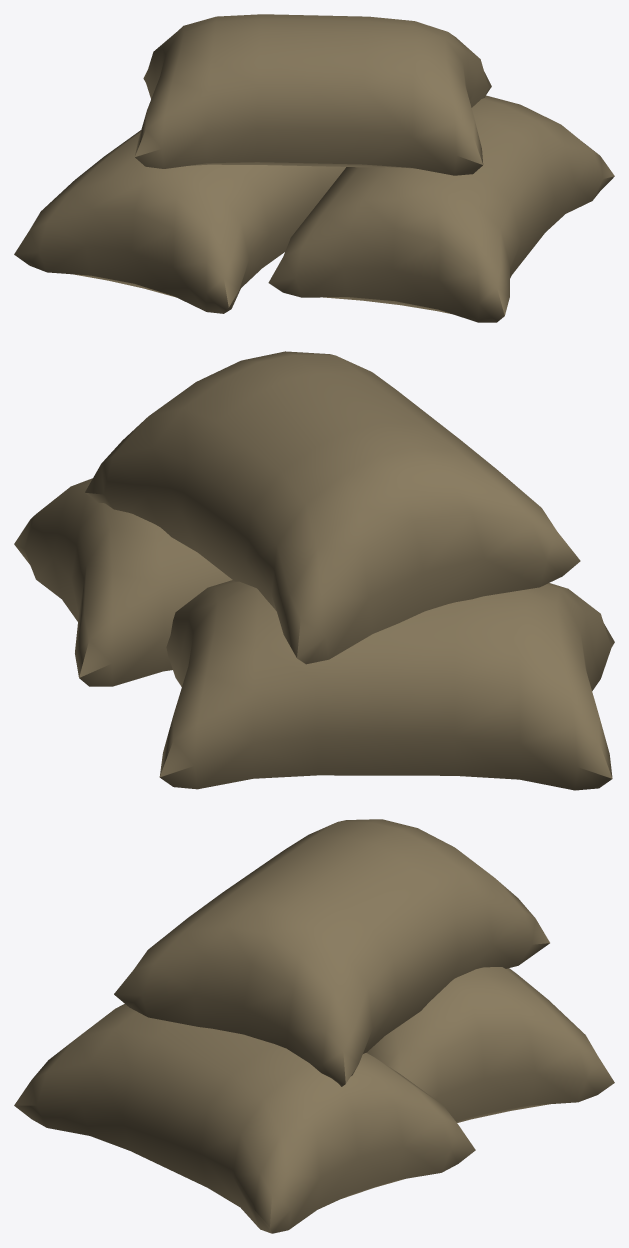
File: prop_karung.fbx
The picture shows the model from 3 angles, top to bottom: view 1: azimuth 30°, elevation 25°; view 2: azimuth 150°, elevation 25°; view 3: azimuth 270°, elevation 25°; orthographic projection. The views are drawn at different scales.
Parts seen in each view (by area): view 1: prop_karung; view 2: prop_karung; view 3: prop_karung.
Boxes of the visible parts, x1,y1,x2,y2 form: prop_karung: [14, 14, 614, 322]; prop_karung: [14, 351, 614, 790]; prop_karung: [14, 819, 614, 1233].
Size of the model in its own units: 1 by 0.397 by 0.8869.
1 material, 1 textured.
